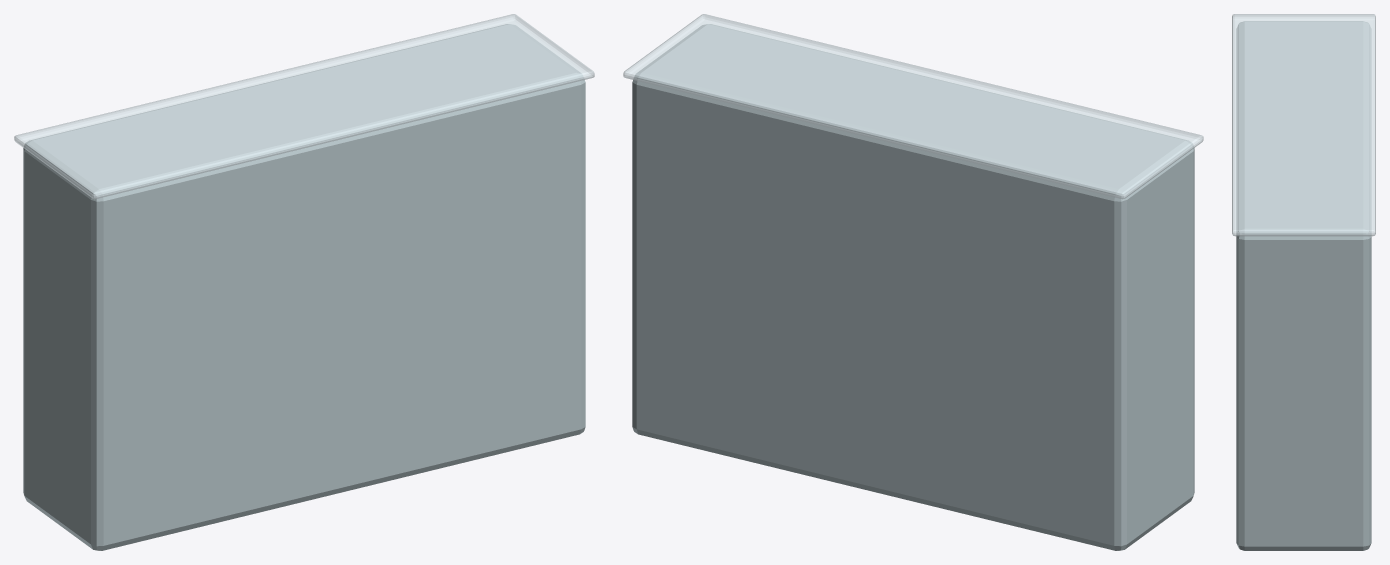
Rendered from bowl.glb.
3 renders of one model, left to right at view 1: azimuth 30°, elevation 25°; view 2: azimuth 150°, elevation 25°; view 3: azimuth 270°, elevation 25°, orthographic. The views are drawn at different scales.
Visible parts, largest first — view 1: bowl; view 2: bowl; view 3: bowl.
Part boxes in pixels (x1,y1,x2,y2): bowl: [14, 14, 594, 550]; bowl: [623, 14, 1203, 550]; bowl: [1232, 14, 1375, 550].
Bounding box in the file's own units: 6.1 × 4.24 × 1.7.
